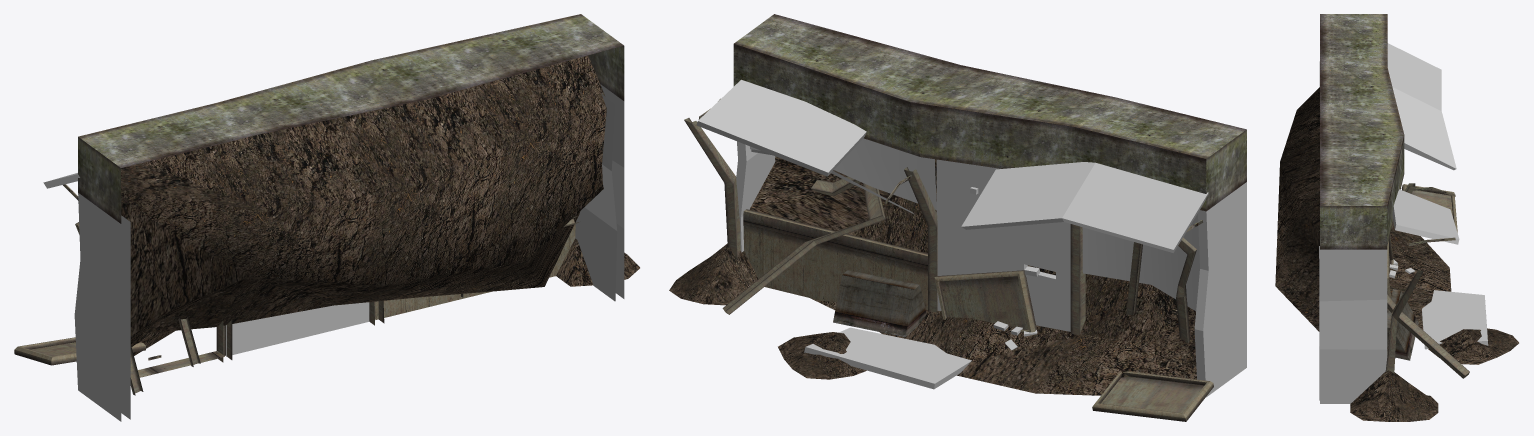
The model's file is Store_front_33.fbx.
3 renders of one model, left to right at view 1: azimuth 30°, elevation 25°; view 2: azimuth 150°, elevation 25°; view 3: azimuth 270°, elevation 25°, orthographic. The views are drawn at different scales.
Parts seen in each view (by area): view 1: Store_front_33; view 2: Store_front_33; view 3: Store_front_33.
Boxes of the visible parts, bbox=[...] form: Store_front_33: bbox=[14, 14, 639, 421]; Store_front_33: bbox=[669, 14, 1246, 421]; Store_front_33: bbox=[1275, 14, 1518, 421].
Bounding box in the file's own units: 796 × 342 × 377.
